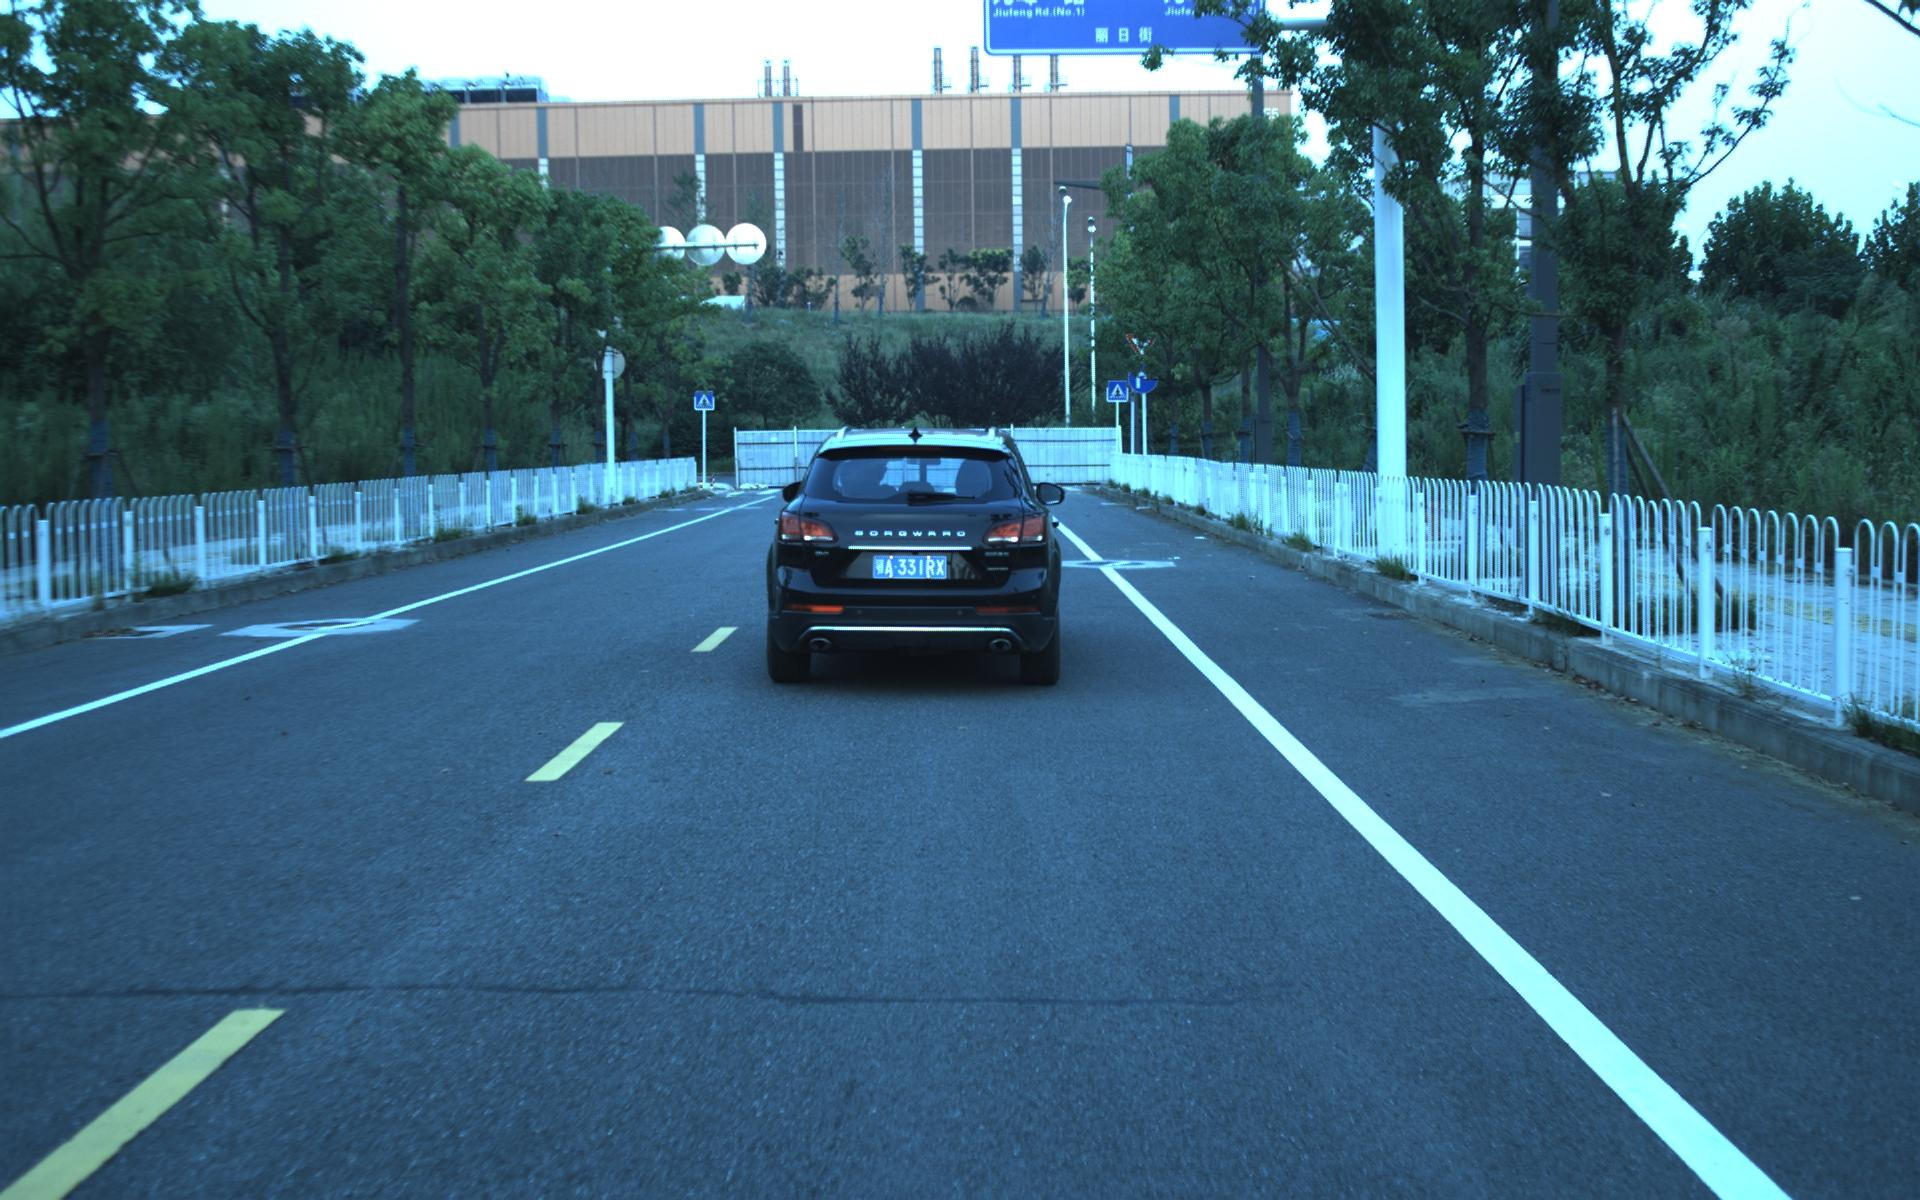Car: (764, 422, 1062, 687)
